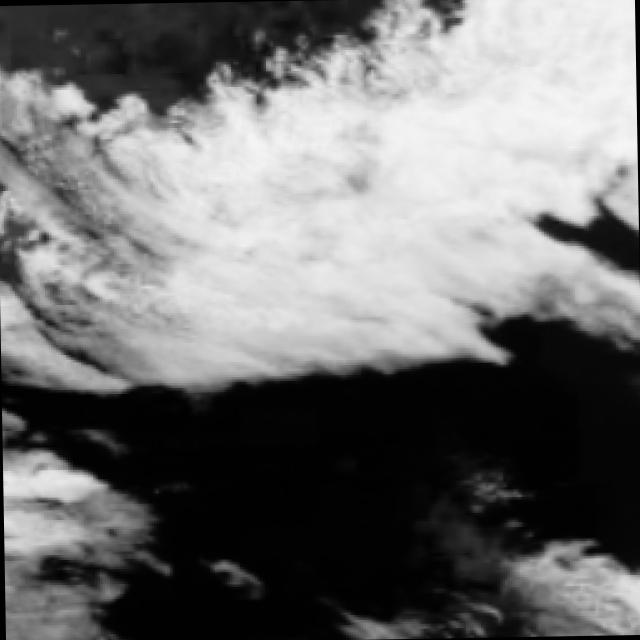CB: (227, 190, 464, 336), (495, 0, 636, 139), (396, 115, 570, 200)
